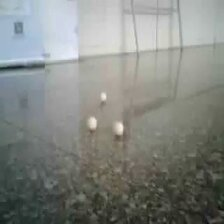w: (112, 122, 125, 136), (87, 117, 97, 130), (100, 93, 108, 102)
